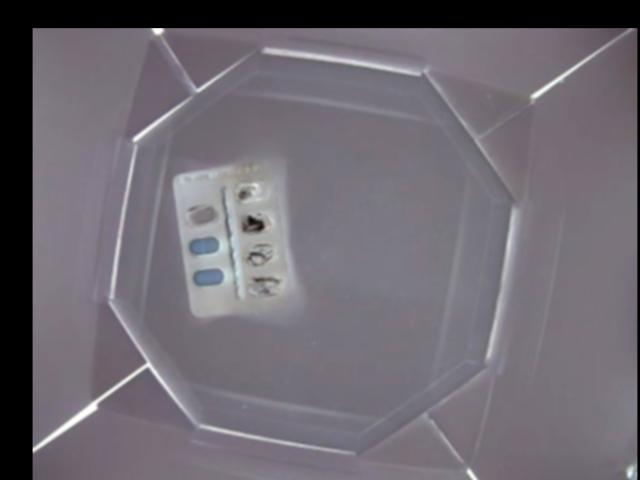Medicine: (173, 159, 290, 318)
